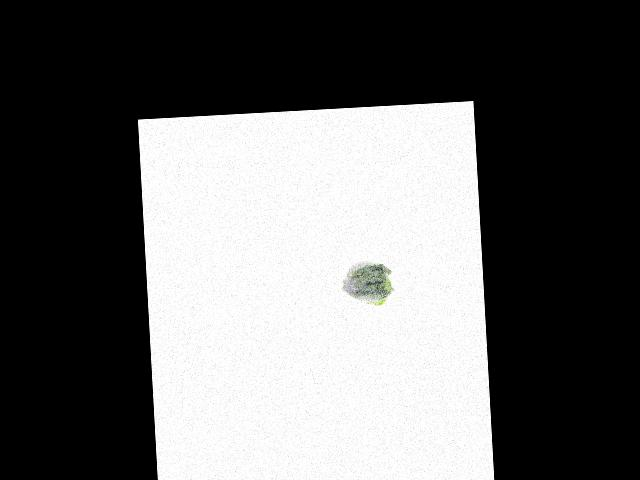lettuce: (340, 258, 394, 310)
